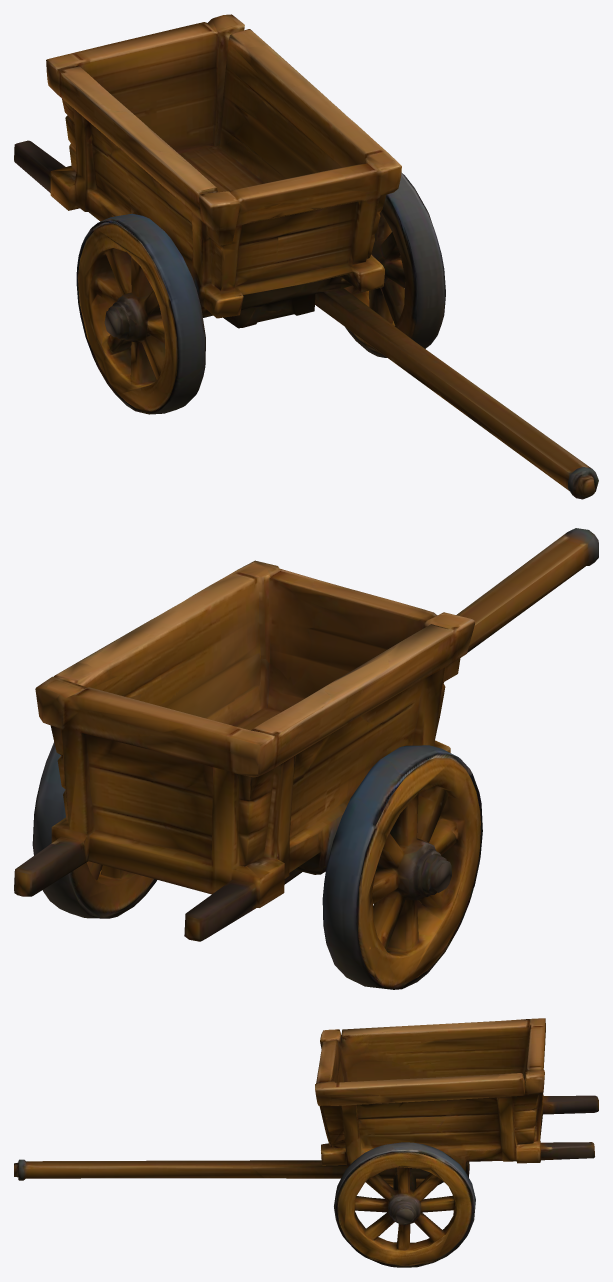
File: log_handcart_github.glb
3 renders of one model, top to bottom at view 1: azimuth 30°, elevation 25°; view 2: azimuth 150°, elevation 25°; view 3: azimuth 270°, elevation 25°, orthographic. The views are drawn at different scales.
Visible parts, largest first — view 1: log_handcart_github; view 2: log_handcart_github; view 3: log_handcart_github.
Boxes of the visible parts, x1,y1,x2,y2 form: log_handcart_github: [14, 14, 598, 499]; log_handcart_github: [14, 528, 598, 989]; log_handcart_github: [14, 1018, 598, 1267].
Bounding box in the file's own units: 0.3956 × 0.3375 × 1.01.
1 material, 1 textured.
